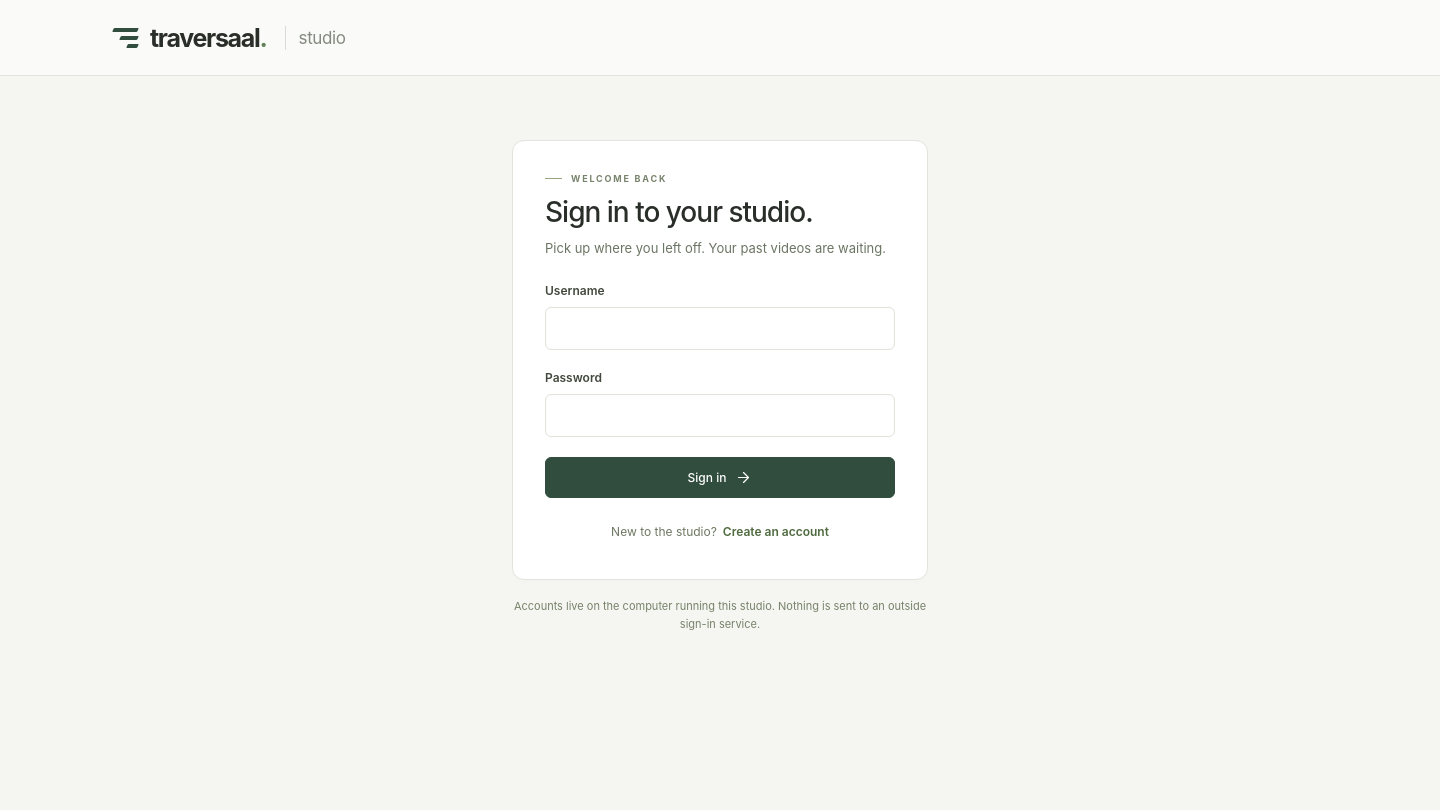
Scenario: Accounts › shows the server message when the password is wrong
This screenshot has width=1440, height=810.
Type "alice" into the field labelled "Username" at (720,328), box [545,307,895,350]
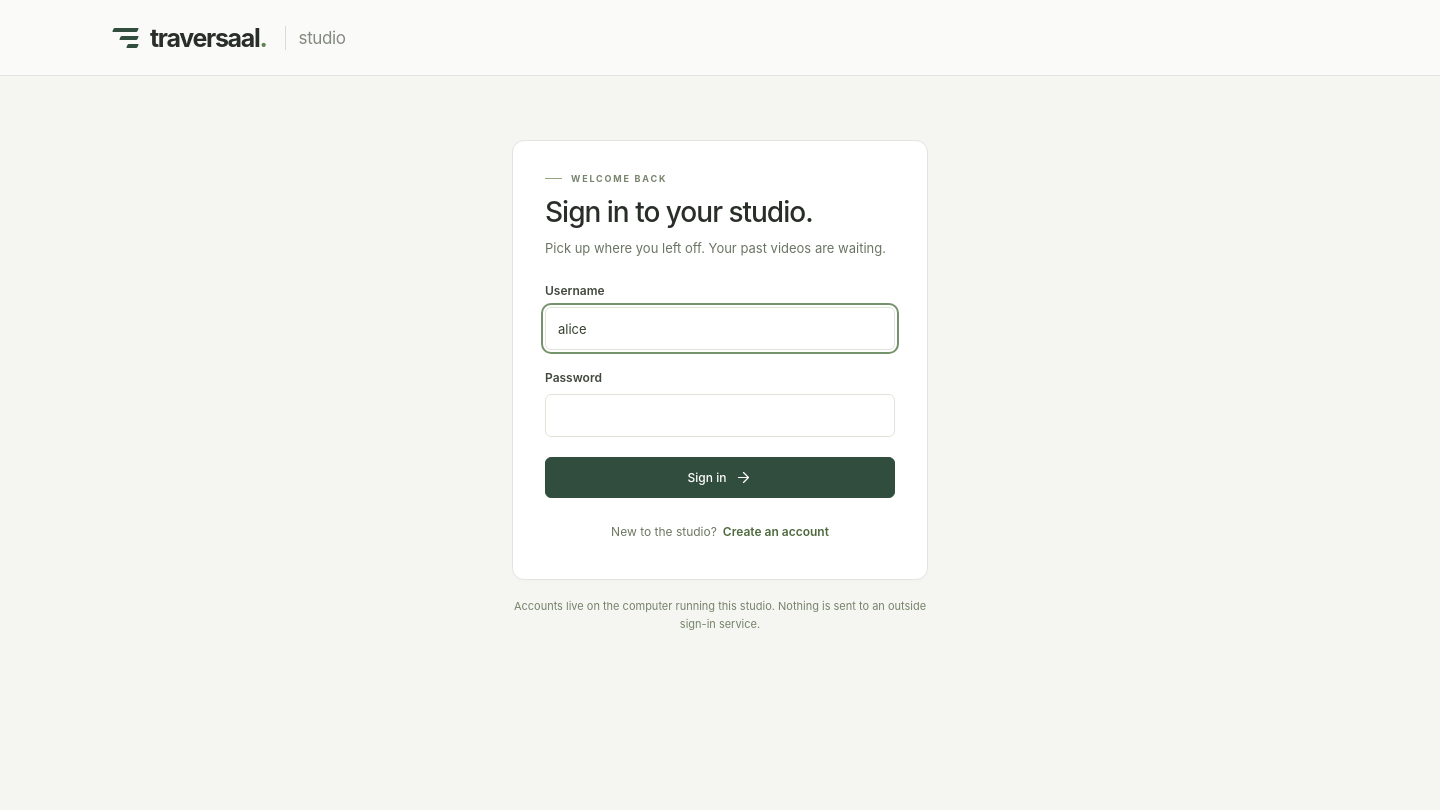
Type "wrong password" into the password field labelled "Password" at (720,416), box [545,394,895,437]
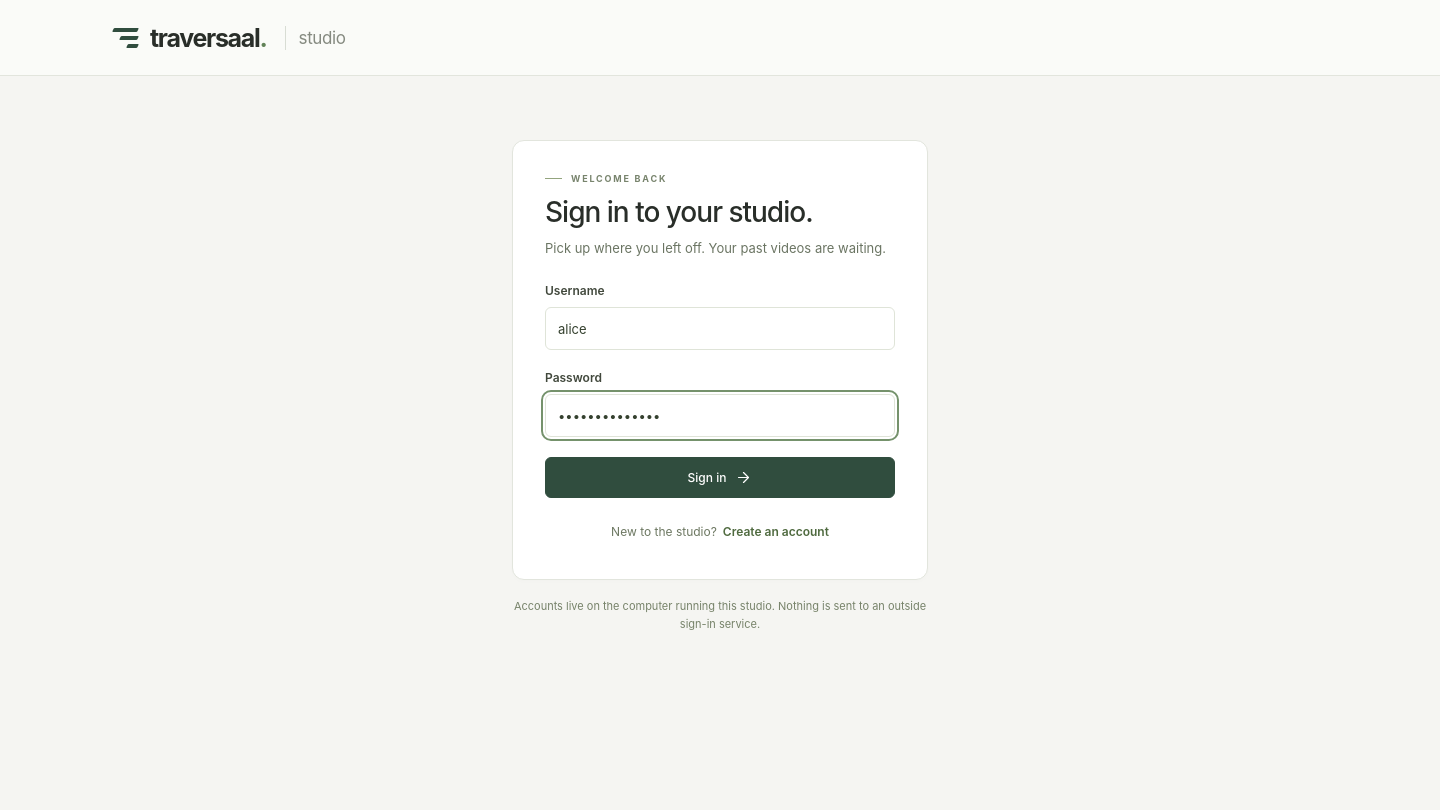
Click the button "Sign in" at (720,478), box [545,457,895,498]
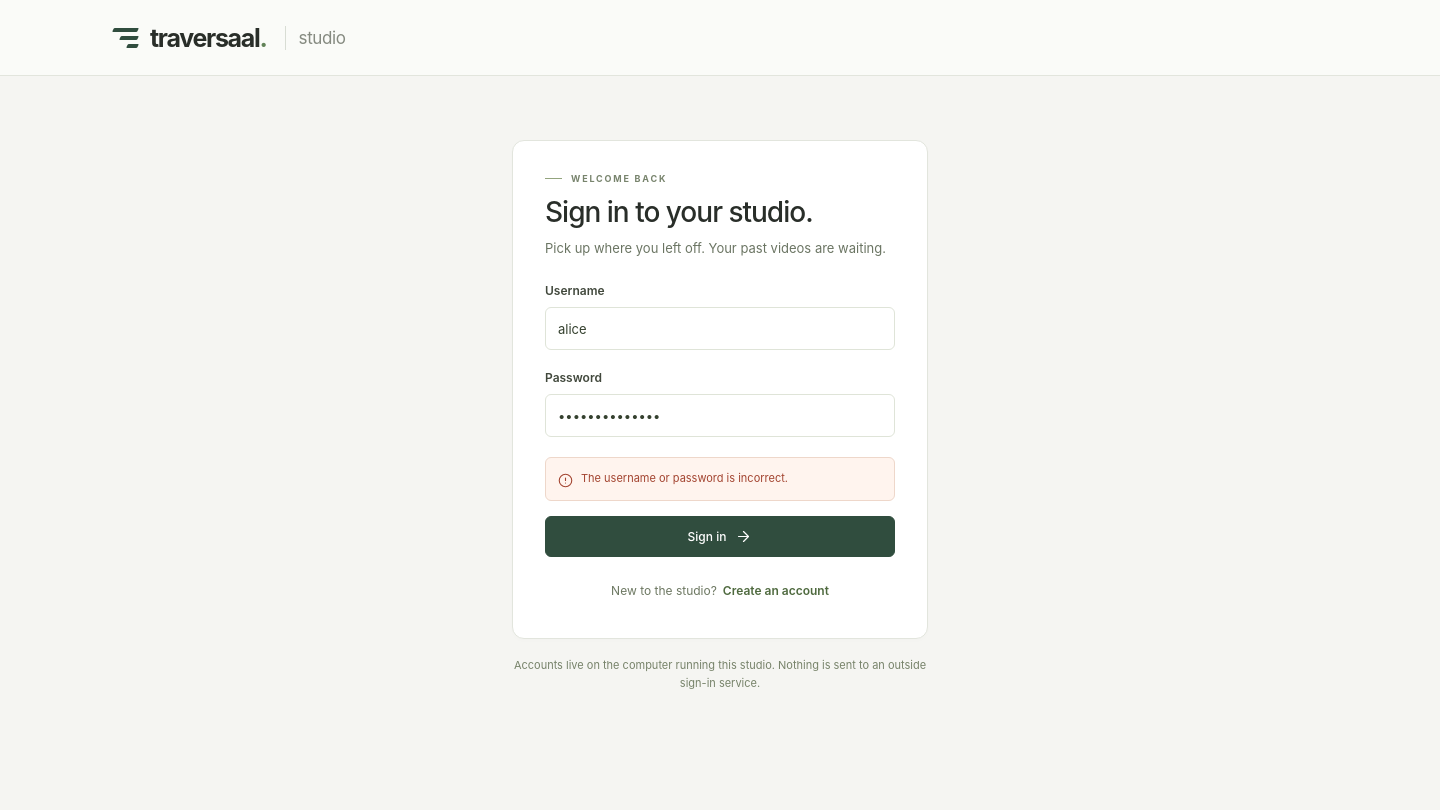
Expected: the message reads "The username or password is incorrect.", [581,471,788,485]
